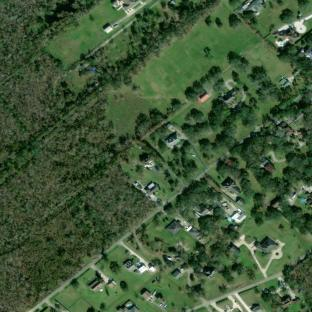Floresta: (0, 0, 164, 312), (103, 0, 218, 83), (231, 131, 312, 234), (248, 44, 312, 146), (175, 178, 224, 233), (203, 99, 239, 157), (284, 255, 312, 306), (185, 66, 222, 100), (192, 235, 229, 265)
